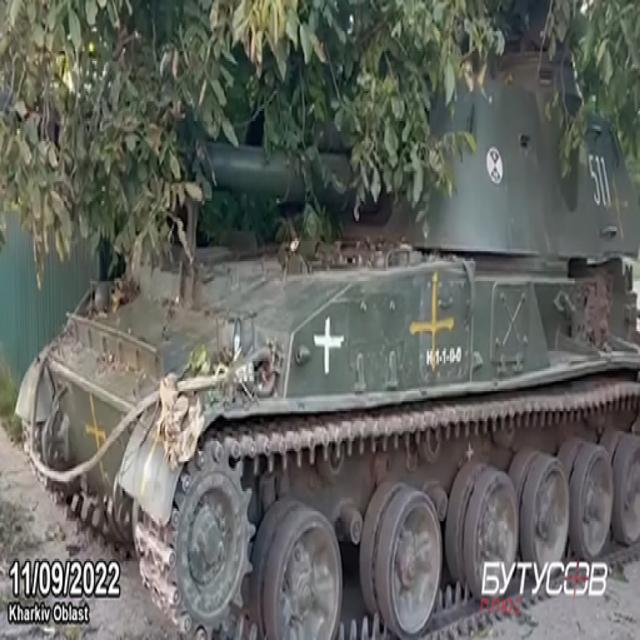ART: (14, 31, 638, 636)
